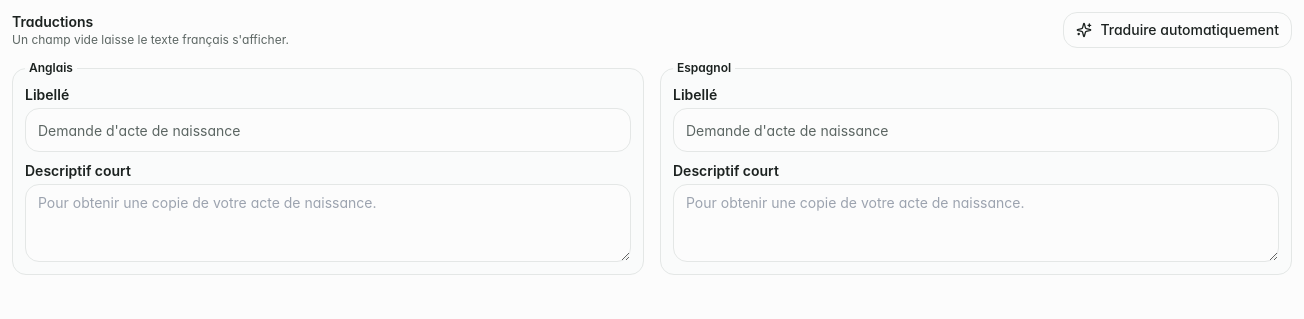
Scenario: TranslationFields — traduction automatique › dit ce qui a été traduit, et ce qui ne l'a pas été
This screenshot has width=1304, height=319.
Click the button "Traduire automatiquement": (1178, 30) [1064, 12, 1292, 48]
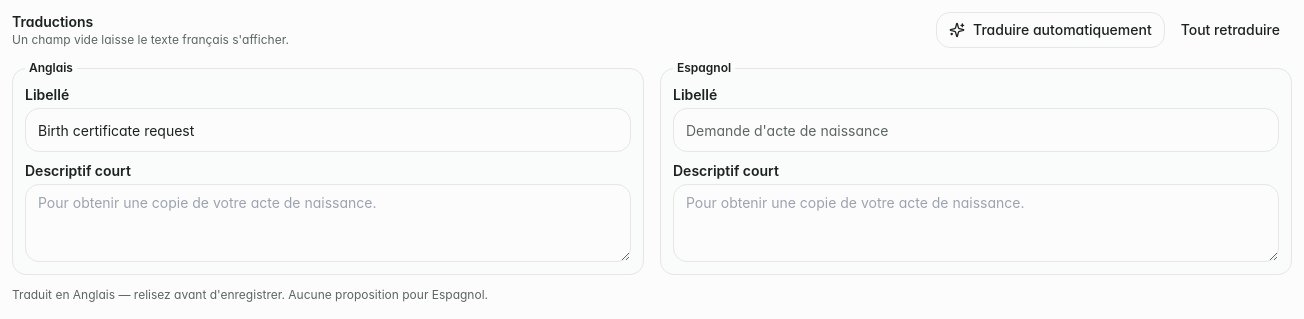
Expected: the message shows "Anglais", [12, 287, 285, 302]
Expected: the message shows "relisez avant d'enregistrer", [12, 287, 285, 302]
Expected: the message shows "Espagnol", [285, 287, 488, 302]
